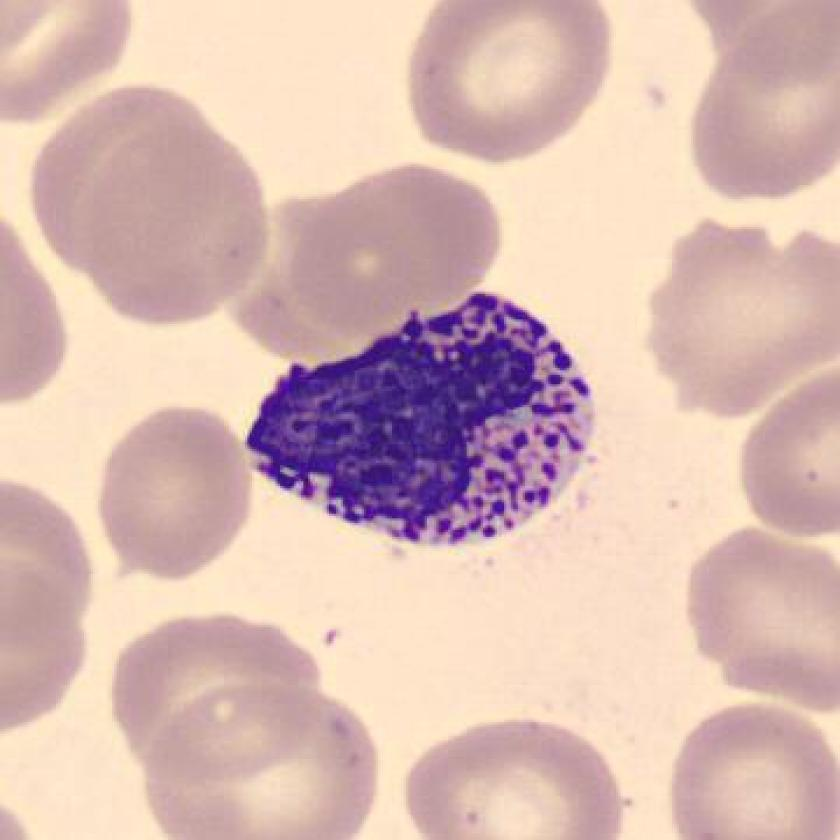basophil: (251, 298, 608, 557)
